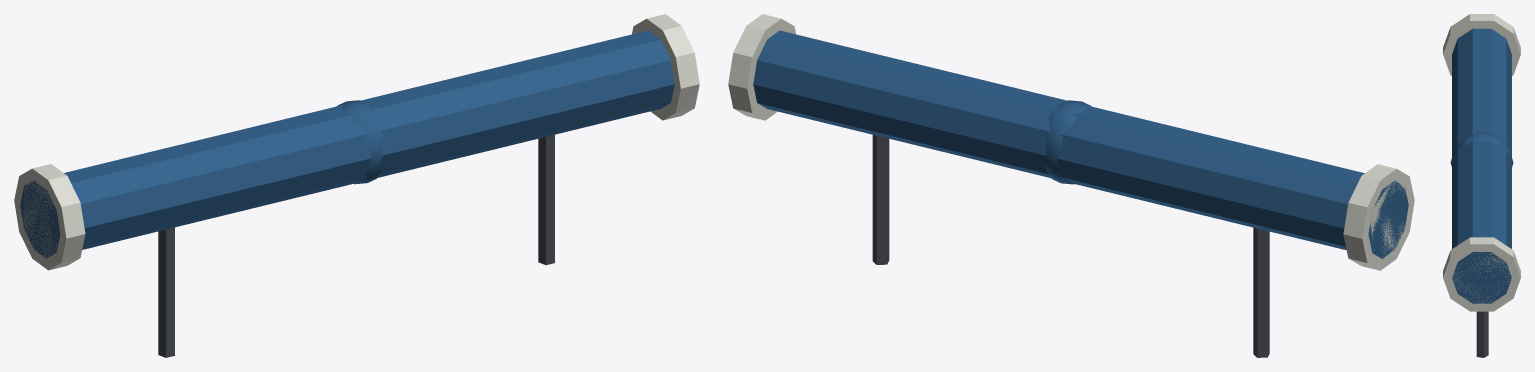
Rendered from PipeL_Straight.fbx.
3 views of the same model, side by side, from view 1: azimuth 30°, elevation 25°; view 2: azimuth 150°, elevation 25°; view 3: azimuth 270°, elevation 25° (orthographic). The views are drawn at different scales.
Visible parts, largest first — view 1: PipeL_Straight_Body; view 2: PipeL_Straight_Body; view 3: PipeL_Straight_Body.
Part boxes in pixels (x1,y1,x2,y2): PipeL_Straight_Body: [14, 14, 699, 357]; PipeL_Straight_Body: [728, 14, 1414, 357]; PipeL_Straight_Body: [1443, 14, 1520, 357].
Bounding box in the file's own units: 1 × 0.318 × 0.143.
